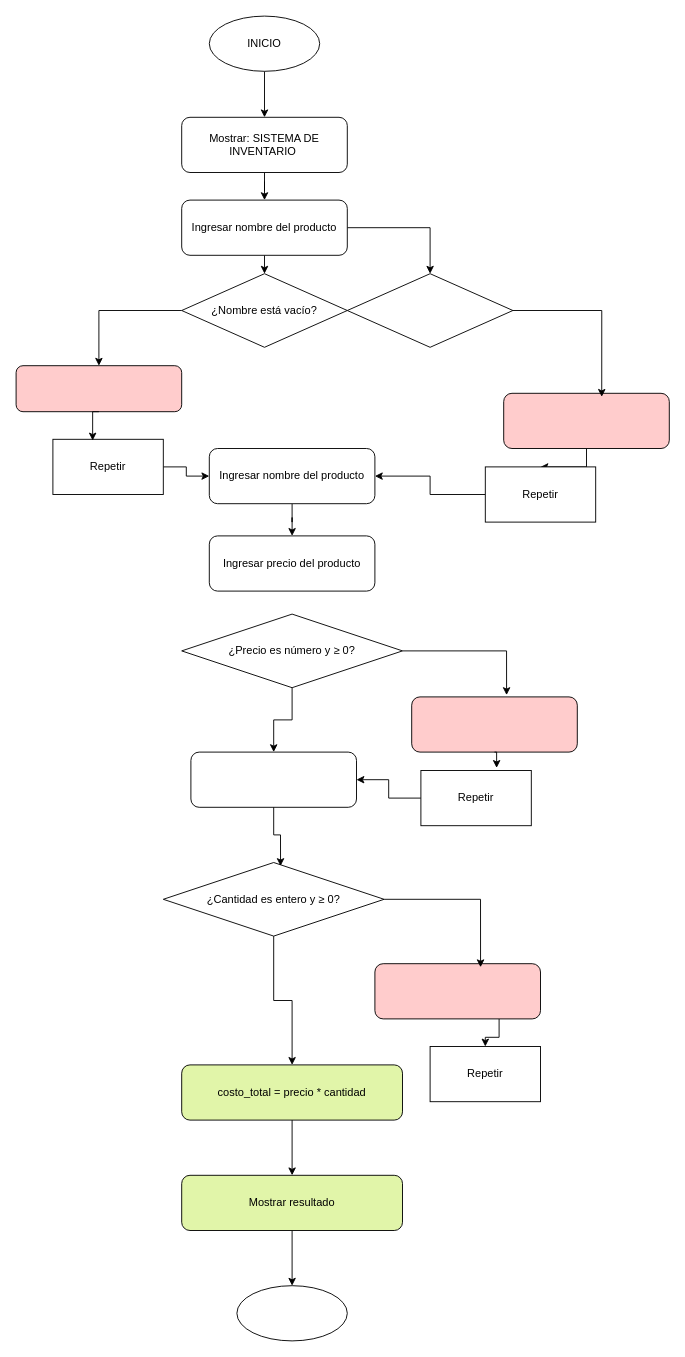
Some shapes in this 685 by 1357 pixel diagram are drawn without their labels. The box of each missing label's shape, as (x1, y1, x2, y2) in pixels:
Error: cantidad inválida: (374, 963, 540, 1019)
Error: nombre vacío: (15, 365, 182, 412)
Error: precio inválido: (411, 696, 577, 752)
Error: solo letras: (503, 392, 669, 448)
FIN: (236, 1285, 347, 1341)
Ingresar cantidad del producto: (190, 751, 356, 807)
¿Solo letras?: (346, 273, 513, 347)
